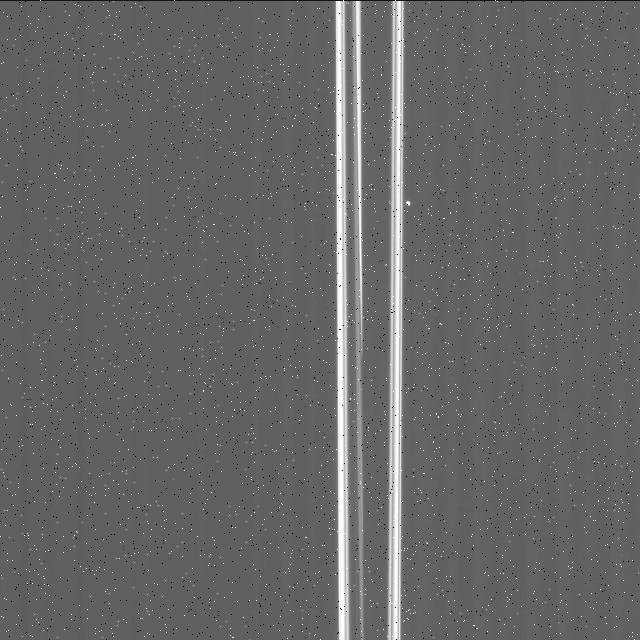Saturn: (333, 0, 403, 640)
